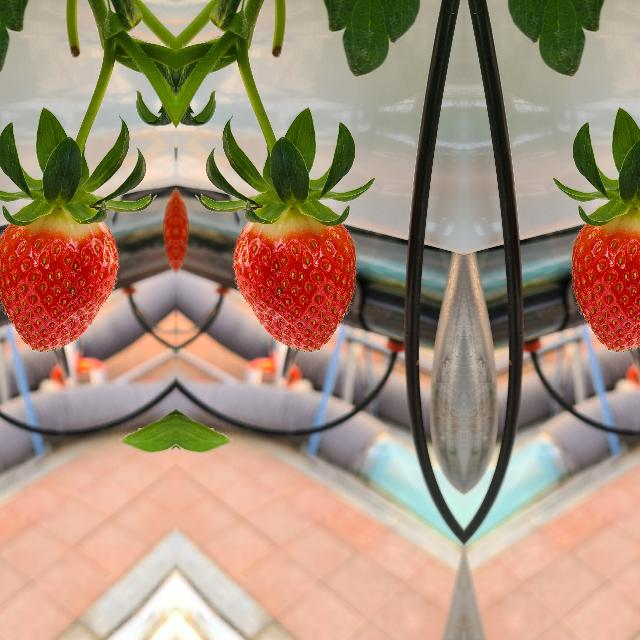Health_100: (229, 207, 357, 353), (0, 207, 121, 353), (569, 207, 640, 353)
